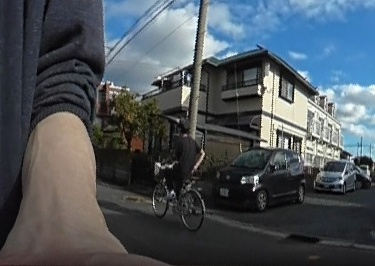person: (173, 112, 200, 191)
